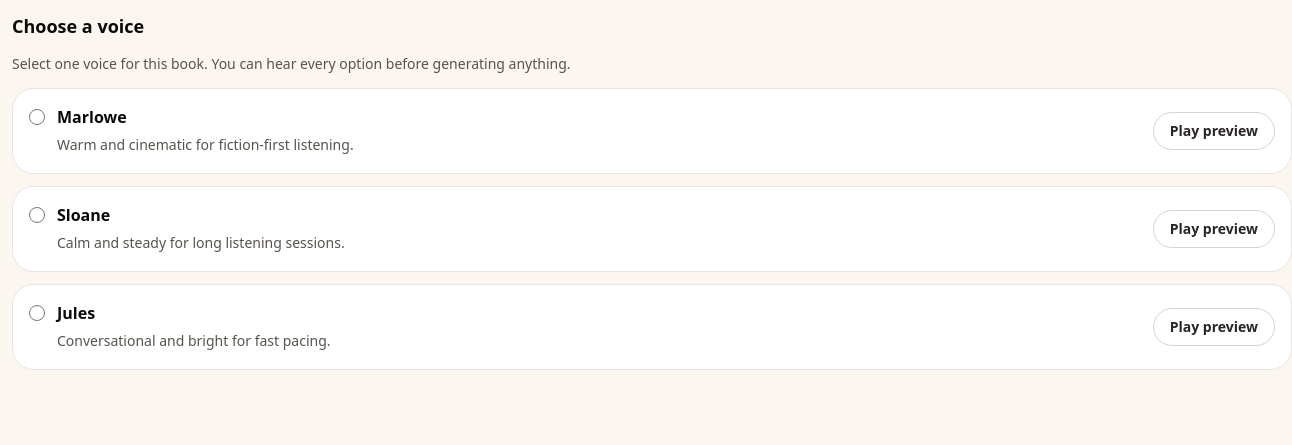
VoiceChoice › shows an actionable error when preview playback fails
This screenshot has width=1292, height=445.
Click the button "Play preview" in the row of "Jules". click: (1214, 327)
box: [1153, 308, 1275, 346]
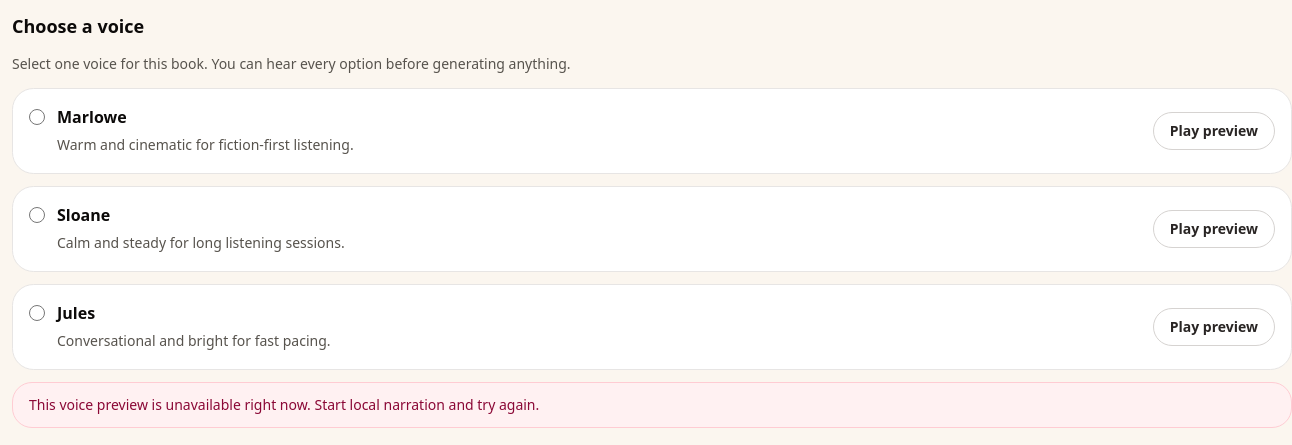
Expected: the message shows "Start local narration and try again", [29, 395, 539, 414]
